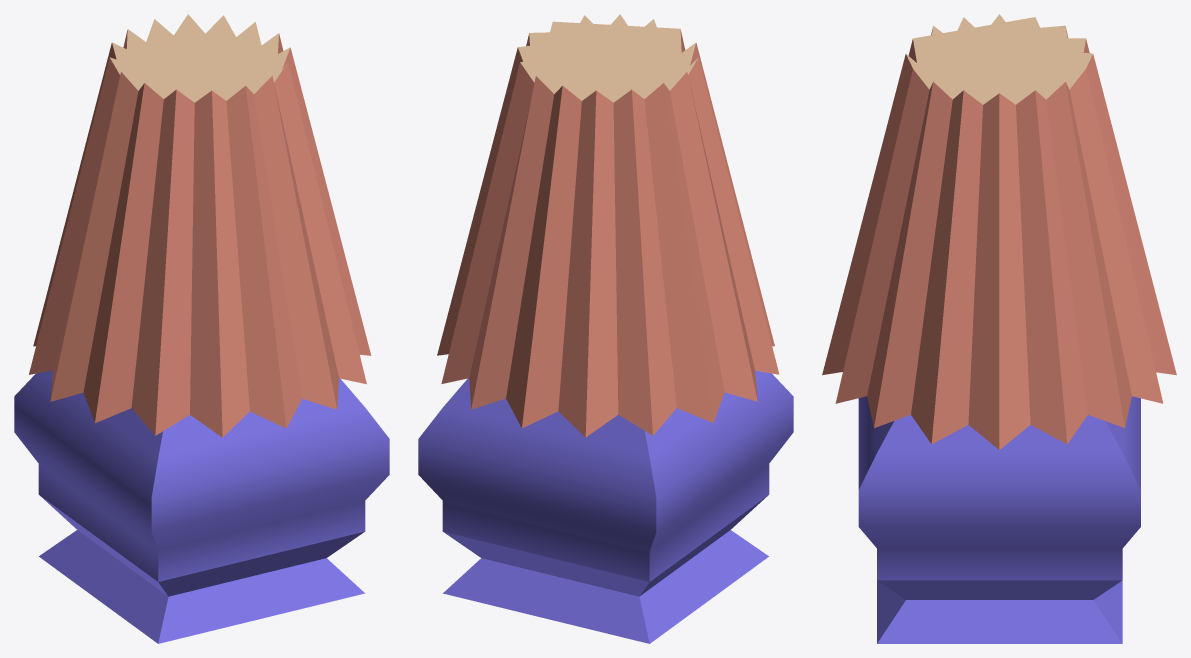
File: NightStandSmallLamp.fbx
3 renders of one model, left to right at view 1: azimuth 30°, elevation 25°; view 2: azimuth 150°, elevation 25°; view 3: azimuth 270°, elevation 25°, orthographic. The views are drawn at different scales.
Parts seen in each view (by area): view 1: NightStandLamp.001; view 2: NightStandLamp.001; view 3: NightStandLamp.001.
Boxes of the visible parts, x1=… form: NightStandLamp.001: x1=14, y1=14, x2=389, y2=643; NightStandLamp.001: x1=418, y1=14, x2=793, y2=643; NightStandLamp.001: x1=822, y1=14, x2=1176, y2=643.
Size of the model in its own units: 0.1908 by 0.1908 by 0.3189.
